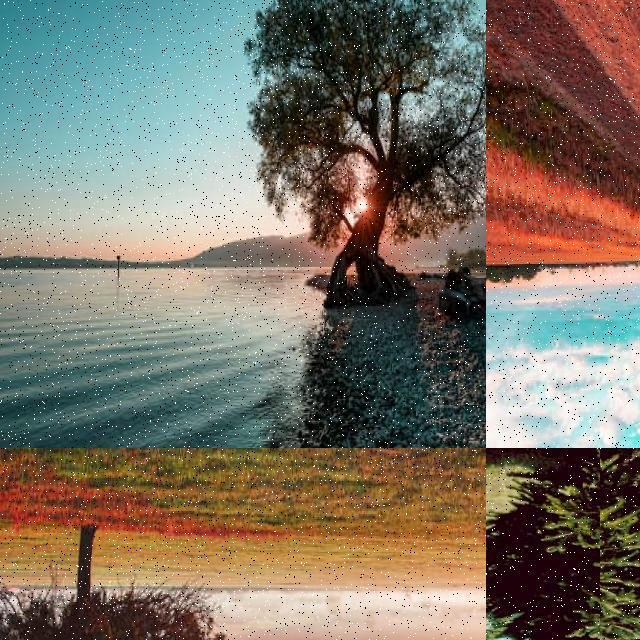tree: (247, 0, 486, 308), (0, 524, 216, 640), (600, 448, 640, 640), (486, 536, 554, 640)
